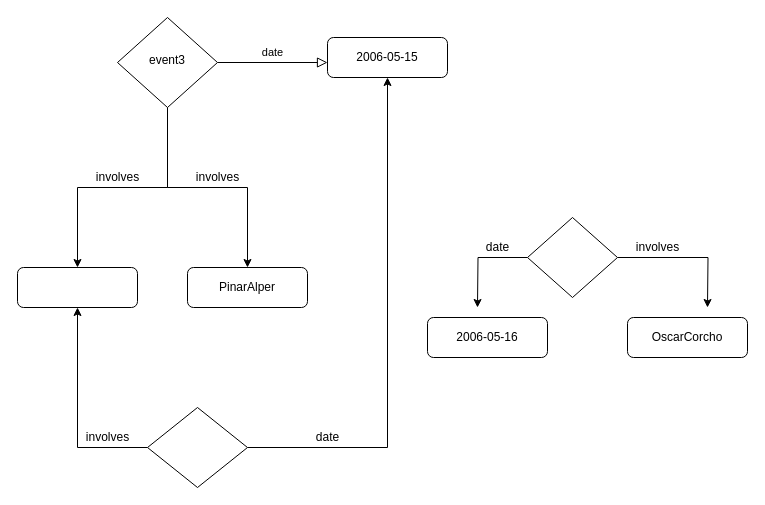
Image size: 765x505. Some labels were removed from this diagram. The shapes that lost their labels are listed below. From the top down, each one's centre as x and y in pixels, then its label:
At pixel 572 257: "event4".
At pixel 77 287: "CaroleGoble".
At pixel 197 447: "event5".
